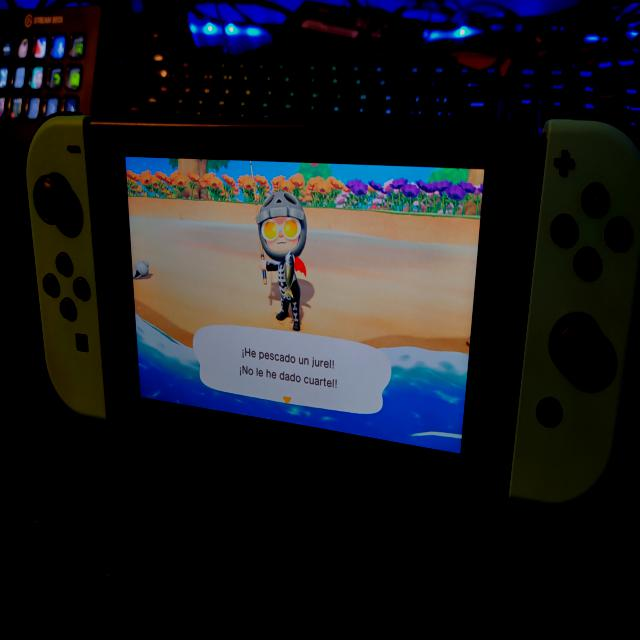text_bubble: (193, 322, 394, 420)
